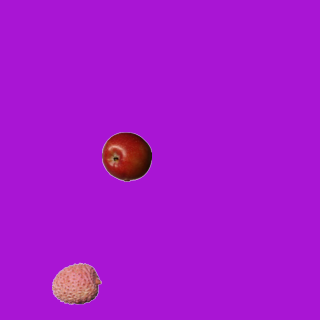Apple Braeburn: (101, 131, 151, 181)
Lychee: (51, 258, 101, 308)
